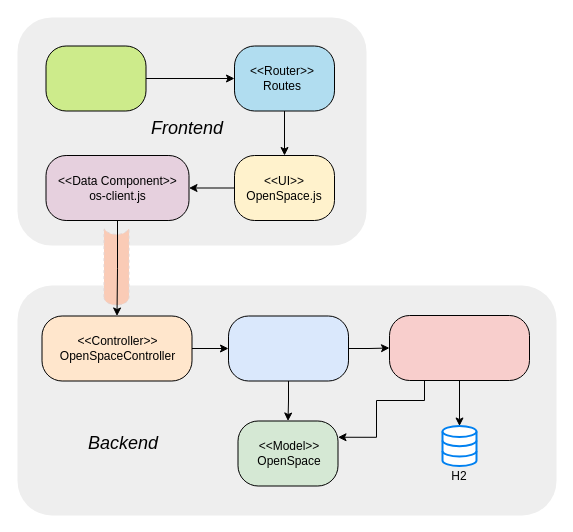
This 573x532 diagram has some shape labels left out. Each missing label, with the centre of its shape:
<<Repository>> OpenSpaceRespository: the point at 459,347
<<Service>> OpenSpaceService: the point at 288,348
App.js: the point at 95,78
